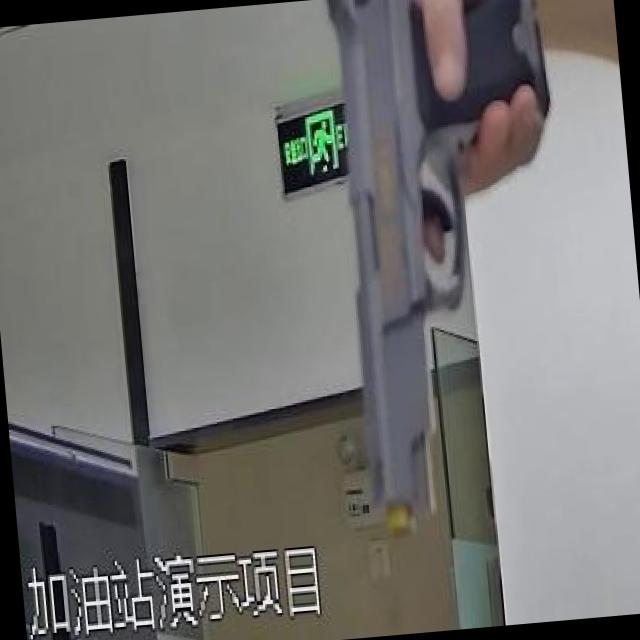Guns: (292, 0, 603, 525)
